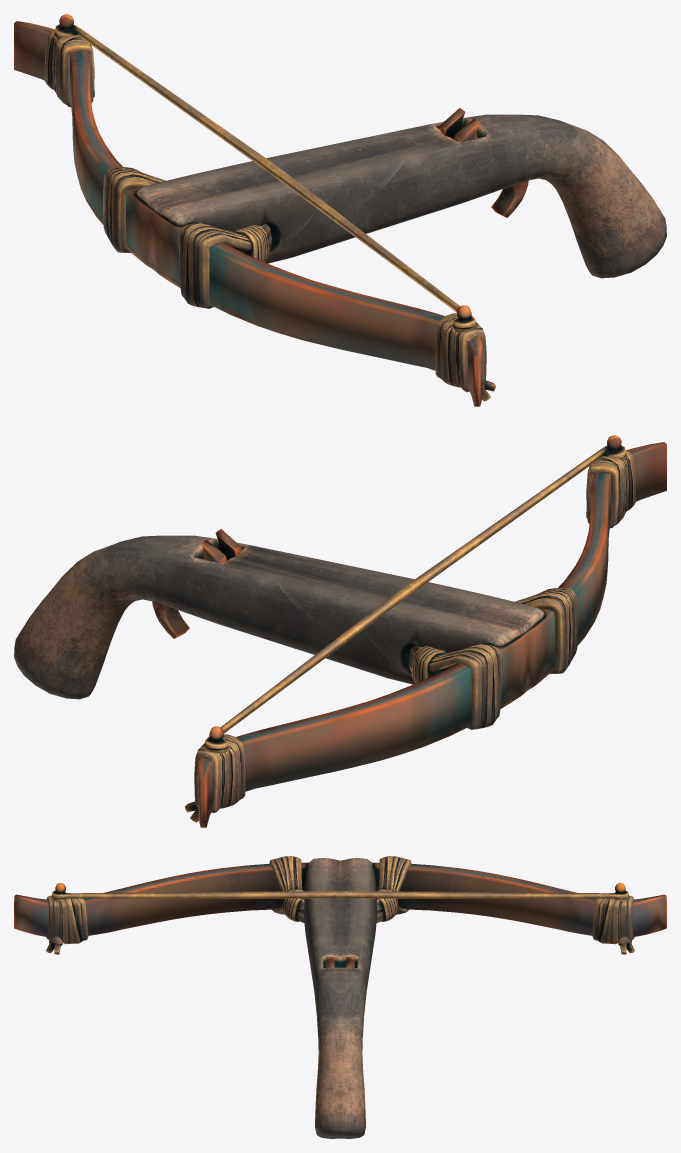
3 views of the same model, one above another, from view 1: azimuth 30°, elevation 25°; view 2: azimuth 150°, elevation 25°; view 3: azimuth 270°, elevation 25° (orthographic). The views are drawn at different scales.
Visible parts, largest first — view 1: SM_Crossbow_Bronze_1H_01_LOD0; view 2: SM_Crossbow_Bronze_1H_01_LOD0; view 3: SM_Crossbow_Bronze_1H_01_LOD0.
Boxes of the visible parts, x1,y1,x2,y2 form: SM_Crossbow_Bronze_1H_01_LOD0: (14, 14, 666, 406); SM_Crossbow_Bronze_1H_01_LOD0: (14, 435, 666, 827); SM_Crossbow_Bronze_1H_01_LOD0: (14, 856, 666, 1138).
Size of the model in its own units: 0.477 by 0.1729 by 0.7456.
Materials: 1 (1 with a texture image).
